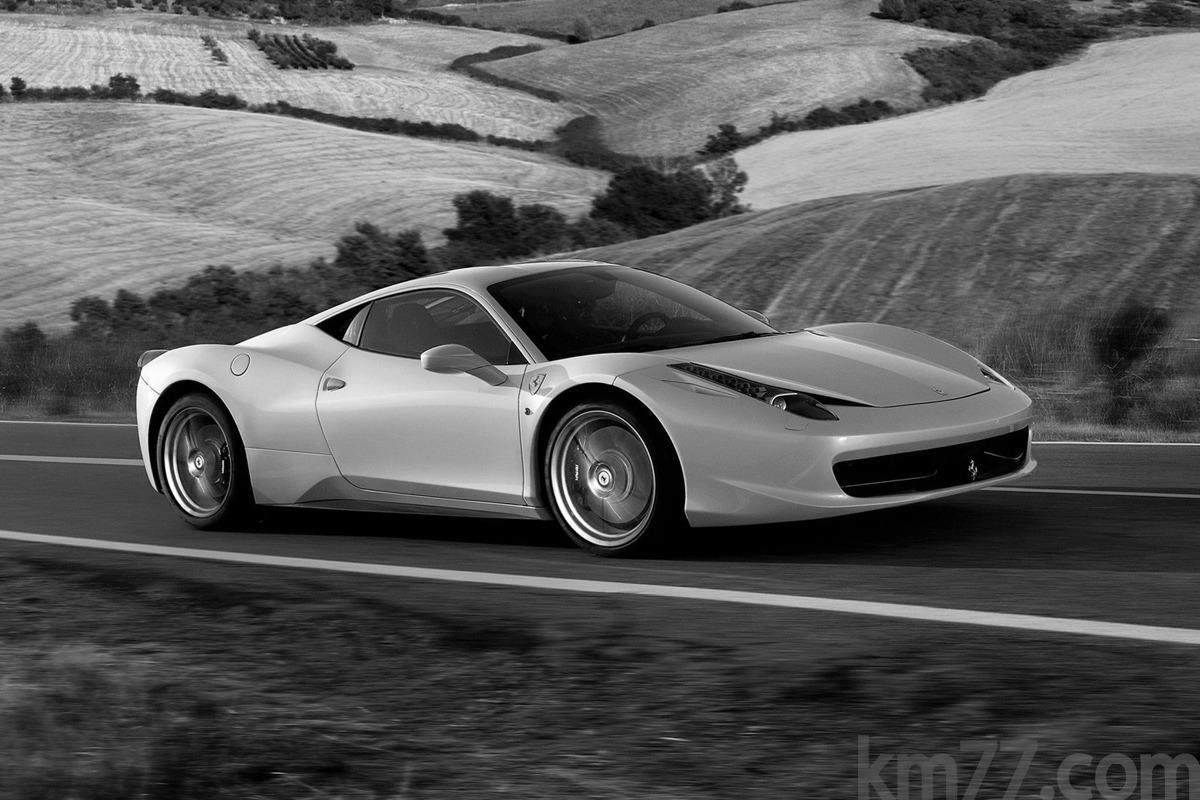car: (133, 255, 1045, 571)
